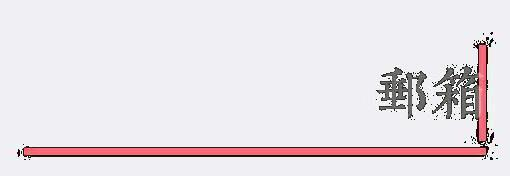EditText: (1, 1, 509, 175)
